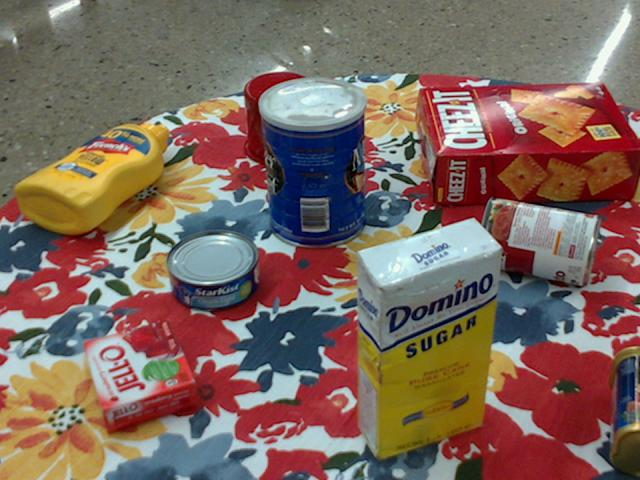cracker_box: (419, 84, 639, 206)
gelatin_box: (85, 322, 198, 437)
master_chef_can: (259, 76, 367, 249)
mug: (244, 72, 337, 166)
mustard_bottle: (14, 123, 168, 233)
potted_meat_can: (612, 343, 639, 473)
sugar_box: (355, 216, 502, 462)
tomato_soup_can: (480, 196, 602, 283)
tuna_fish_can: (165, 231, 259, 312)
